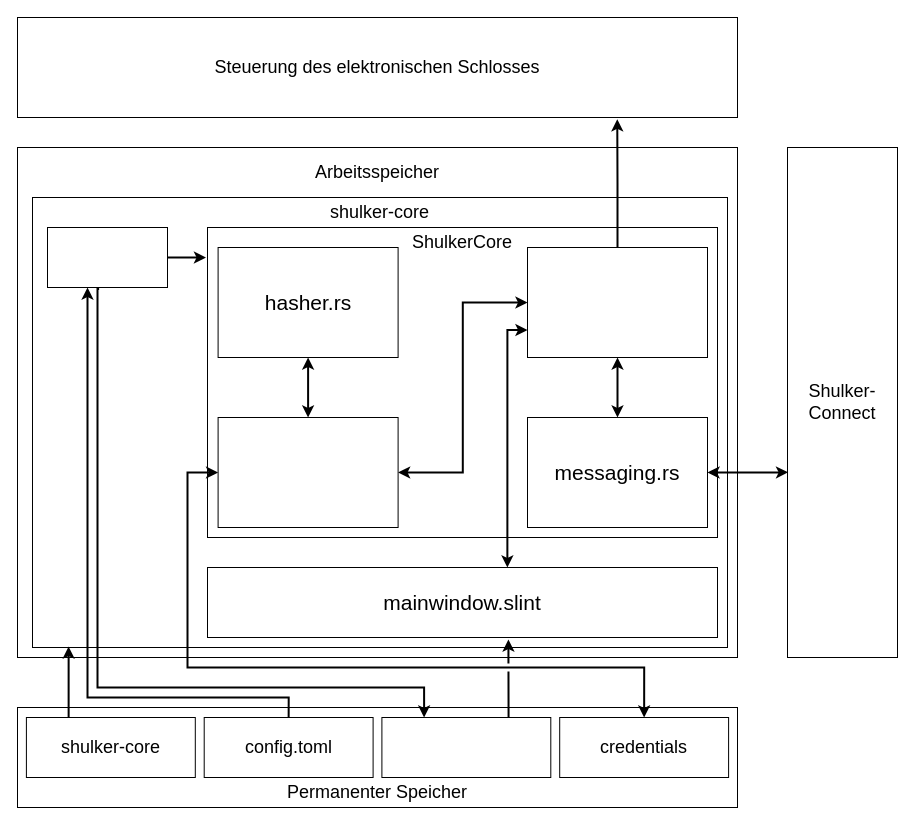
The diagram is 915 pixels wide and 825 high, and some of its shapes have lost their labels. Here are the shapes that lost their labels. From the top down, the centre of each, then its label:
(x=107, y=257): main.rs
(x=617, y=302): core
(x=307, y=472): shulker_db.rs
(x=466, y=747): qr_code.bmp
